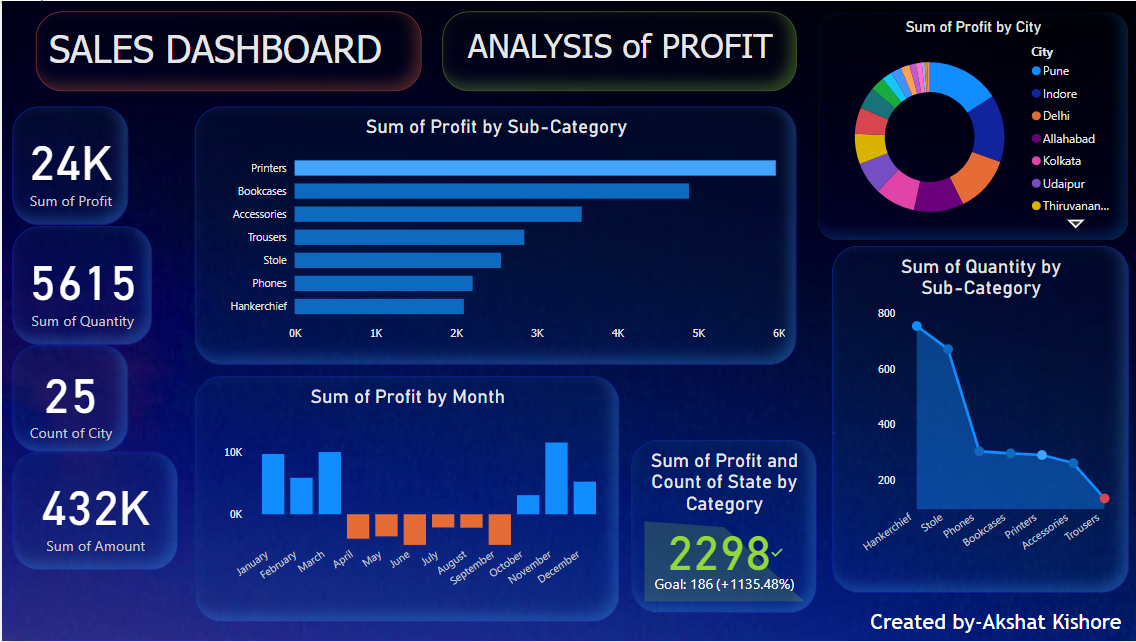

The dashboard page shown, as its layout file describes it:
{"tool":"powerbi","page":{"name":"Page 1","canvas":[1280,720],"ordinal":0},"visuals":[{"type":"textbox","box":[38.2,11.7,434.4,89.5],"z":0},{"type":"clusteredColumnChart","fields":{"Y":["Sum(Order Details.Profit)"],"Category":["List of Orders.Order Date.Variation.Date Hierarchy.Month"]},"box":[217.2,422.7,478.5,277.4],"z":1},{"type":"clusteredBarChart","fields":{"Category":["Order Details.Sub-Category"],"Y":["Sum(Order Details.Profit)"]},"box":[217.2,118.9,678.1,290.6],"z":2},{"type":"stackedAreaChart","fields":{"Category":["Order Details.Sub-Category"],"Y":["Sum(Order Details.Quantity)"]},"box":[934.9,275.9,334.6,390.4],"z":3},{"type":"donutChart","fields":{"Category":["List of Orders.City"],"Y":["Sum(Order Details.Profit)"]},"box":[917.3,11.7,352.3,258.3],"z":4},{"type":"card","fields":{"Values":["Sum(Order Details.Profit)"]},"box":[11.7,118.9,130.6,133.6],"z":5},{"type":"card","fields":{"Values":["Sum(Order Details.Quantity)"]},"box":[11.7,253.9,157,133.6],"z":6},{"type":"card","fields":{"Values":["Count(List of Orders.City)"]},"box":[11.7,387.5,130.6,120.4],"z":7},{"type":"card","fields":{"Values":["Sum(Order Details.Amount)"]},"box":[11.7,507.8,186.4,133.6],"z":8},{"type":"textbox","box":[496.1,11.7,399.2,89.5],"z":9},{"type":"textbox","box":[973.1,679.6,306.8,41.1],"z":10},{"type":"kpi","fields":{"Indicator":["Sum(Order Details.Profit)"],"TrendLine":["Order Details.Category"],"Goal":["CountNonNull(List of Orders.State)"]},"box":[708.9,494.6,208.4,195.2],"z":11}]}

Visuals, with their boxes in screenshot pixels (x1, y1, x2, y2), scaled from the page's 1280x720 canvas onto the 1136x642 screenshot:
textbox: bbox=[34, 10, 419, 90]
clusteredColumnChart - Sum(Order Details.Profit) x List of Orders.Order Date.Variation.Date Hierarchy.Month: bbox=[193, 377, 617, 624]
clusteredBarChart - Order Details.Sub-Category x Sum(Order Details.Profit): bbox=[193, 106, 795, 365]
stackedAreaChart - Order Details.Sub-Category x Sum(Order Details.Quantity): bbox=[830, 246, 1127, 594]
donutChart - List of Orders.City x Sum(Order Details.Profit): bbox=[814, 10, 1127, 241]
card - Sum(Order Details.Profit): bbox=[10, 106, 126, 225]
card - Sum(Order Details.Quantity): bbox=[10, 226, 150, 346]
card - Count(List of Orders.City): bbox=[10, 346, 126, 453]
card - Sum(Order Details.Amount): bbox=[10, 453, 176, 572]
textbox: bbox=[440, 10, 795, 90]
textbox: bbox=[864, 606, 1135, 641]
kpi - Sum(Order Details.Profit) x Order Details.Category: bbox=[629, 441, 814, 615]
